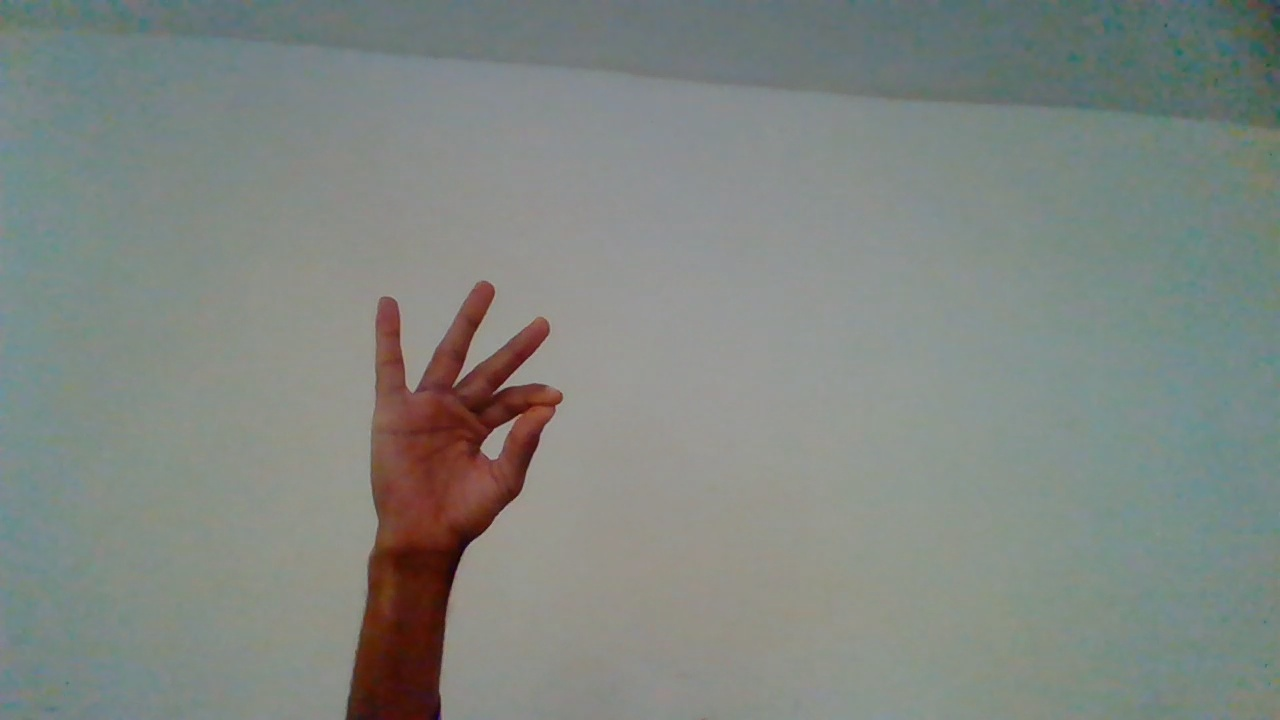le: (371, 280, 565, 685)
